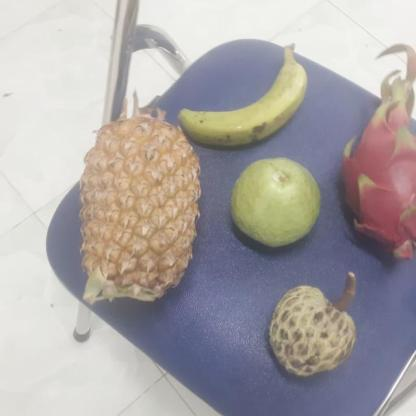annona: (263, 280, 358, 378)
banana: (165, 40, 309, 149)
guava: (227, 157, 320, 249)
pineapple: (76, 118, 202, 306)
pitaya: (338, 104, 416, 262)
